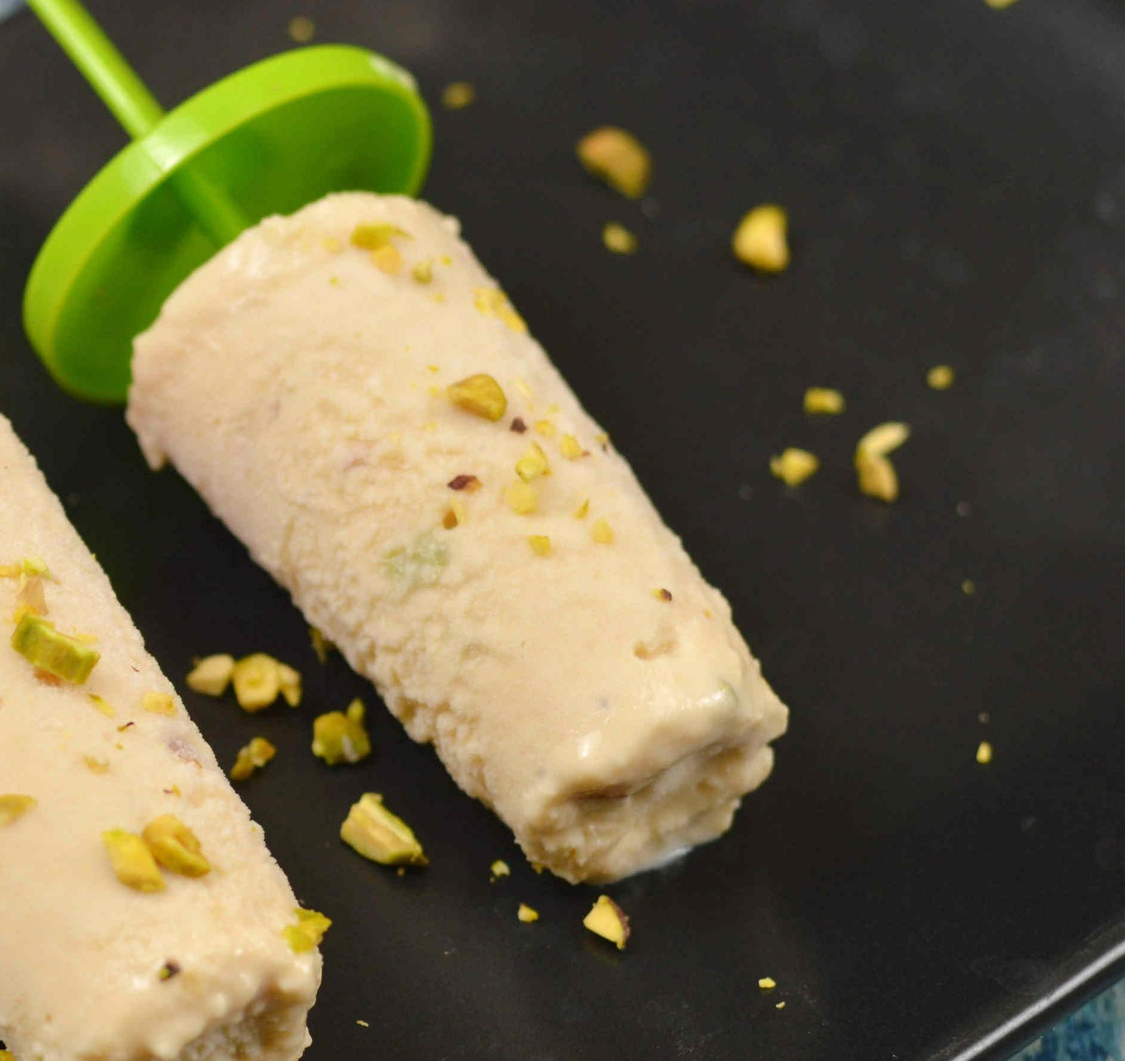Kulfi: (128, 193, 793, 882), (0, 415, 319, 1061)
